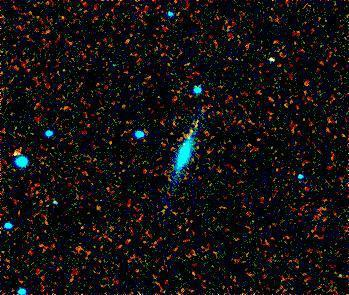star: (175, 117, 205, 147)
